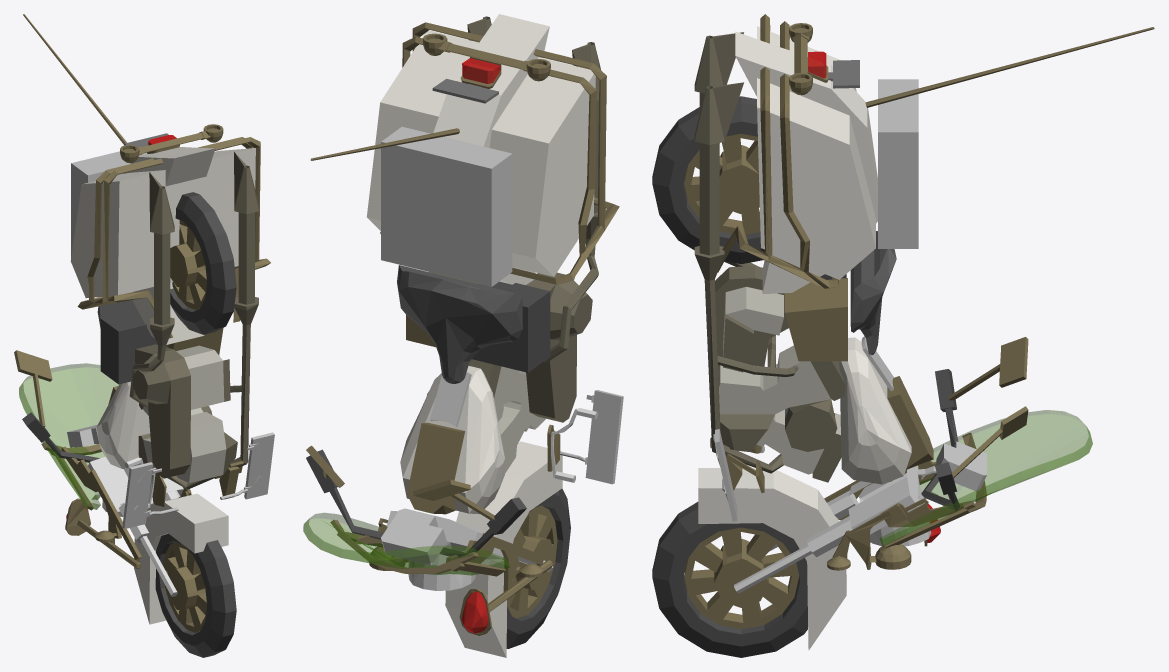
The picture shows the model from 3 angles, left to right: view 1: azimuth 30°, elevation 25°; view 2: azimuth 150°, elevation 25°; view 3: azimuth 270°, elevation 25°; orthographic projection. The views are drawn at different scales.
Parts seen in each view (by area): view 1: ShapeIndexedFaceSet_004, ShapeIndexedFaceSet_001, ShapeIndexedFaceSet_002, ShapeIndexedFaceSet_007, ShapeIndexedFaceSet_011, ShapeIndexedFaceSet_005, ShapeIndexedFaceSet_003, ShapeIndexedFaceSet_006, ShapeIndexedFaceSet; view 2: ShapeIndexedFaceSet_004, ShapeIndexedFaceSet_005, ShapeIndexedFaceSet_001, ShapeIndexedFaceSet_007, ShapeIndexedFaceSet, ShapeIndexedFaceSet_002, ShapeIndexedFaceSet_011, ShapeIndexedFaceSet_006, ShapeIndexedFaceSet_003, ShapeIndexedFaceSet_010, ShapeIndexedFaceSet_009; view 3: ShapeIndexedFaceSet_004, ShapeIndexedFaceSet_001, ShapeIndexedFaceSet_002, ShapeIndexedFaceSet_007, ShapeIndexedFaceSet_005, ShapeIndexedFaceSet_003, ShapeIndexedFaceSet_011, ShapeIndexedFaceSet_006, ShapeIndexedFaceSet, ShapeIndexedFaceSet_009.
Boxes of the visible parts, x1,y1,x2,y2 form: ShapeIndexedFaceSet_004: (70, 147, 255, 624); ShapeIndexedFaceSet_001: (14, 14, 270, 632); ShapeIndexedFaceSet_002: (129, 152, 258, 489); ShapeIndexedFaceSet_007: (22, 192, 236, 657); ShapeIndexedFaceSet_011: (19, 363, 118, 509); ShapeIndexedFaceSet_005: (67, 151, 274, 528); ShapeIndexedFaceSet_003: (139, 345, 226, 483); ShapeIndexedFaceSet_006: (88, 456, 183, 596); ShapeIndexedFaceSet: (97, 300, 137, 328); ShapeIndexedFaceSet_004: (367, 14, 595, 657); ShapeIndexedFaceSet_005: (381, 126, 623, 565); ShapeIndexedFaceSet_001: (306, 22, 619, 635); ShapeIndexedFaceSet_007: (306, 281, 570, 648); ShapeIndexedFaceSet: (397, 265, 522, 383); ShapeIndexedFaceSet_002: (427, 16, 606, 422); ShapeIndexedFaceSet_011: (303, 513, 509, 575); ShapeIndexedFaceSet_006: (386, 408, 597, 590); ShapeIndexedFaceSet_003: (494, 366, 545, 473); ShapeIndexedFaceSet_010: (461, 58, 500, 633); ShapeIndexedFaceSet_009: (432, 78, 498, 103); ShapeIndexedFaceSet_004: (698, 26, 911, 650); ShapeIndexedFaceSet_001: (684, 14, 1154, 629); ShapeIndexedFaceSet_002: (694, 32, 845, 482); ShapeIndexedFaceSet_007: (652, 96, 960, 657); ShapeIndexedFaceSet_005: (713, 79, 986, 521); ShapeIndexedFaceSet_003: (718, 286, 840, 474); ShapeIndexedFaceSet_011: (880, 410, 1092, 546); ShapeIndexedFaceSet_006: (734, 445, 931, 593); ShapeIndexedFaceSet: (850, 231, 896, 355); ShapeIndexedFaceSet_009: (828, 60, 859, 88).
Bounding box in the file's own units: 6474 × 13271 × 18256.
